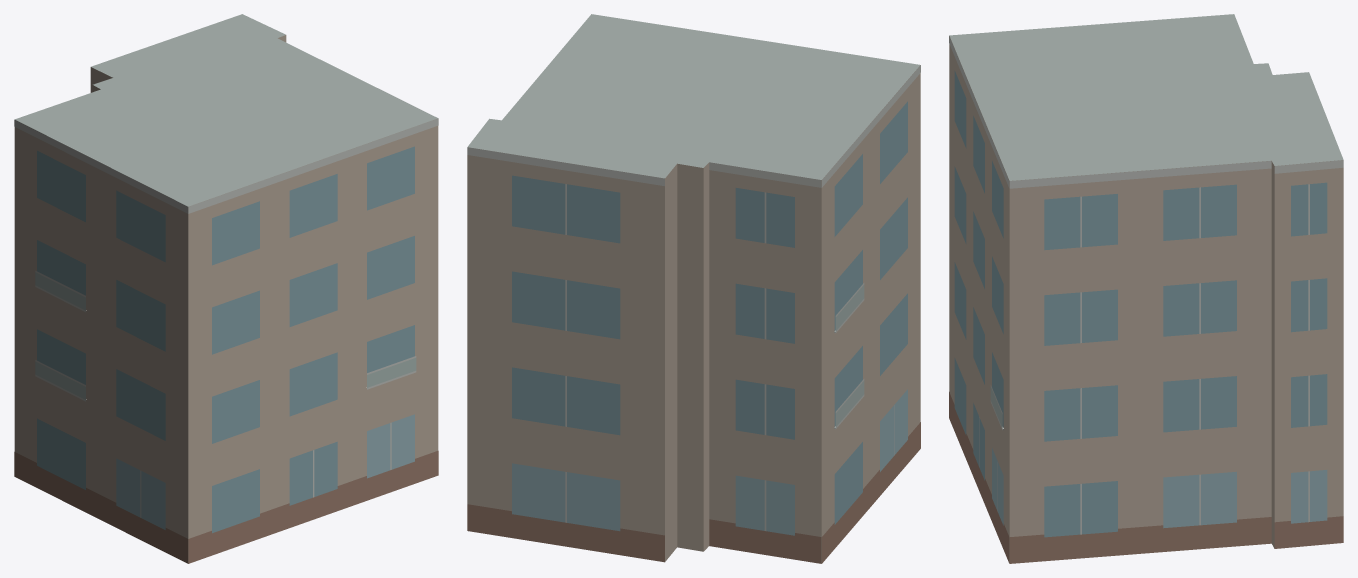
File: survey-upis-32670480.glb
3 views of the same model, side by side, from view 1: azimuth 30°, elevation 25°; view 2: azimuth 150°, elevation 25°; view 3: azimuth 270°, elevation 25° (orthographic). The views are drawn at different scales.
Visible parts, largest first — view 1: survey-upis-32670480.tmp; view 2: survey-upis-32670480.tmp; view 3: survey-upis-32670480.tmp.
Part boxes in pixels (x1=…): survey-upis-32670480.tmp: x1=14, y1=14, x2=438, y2=563; survey-upis-32670480.tmp: x1=467, y1=14, x2=920, y2=563; survey-upis-32670480.tmp: x1=949, y1=14, x2=1343, y2=563.
Size of the model in its own units: 11.21 by 11.98 by 11.19.
